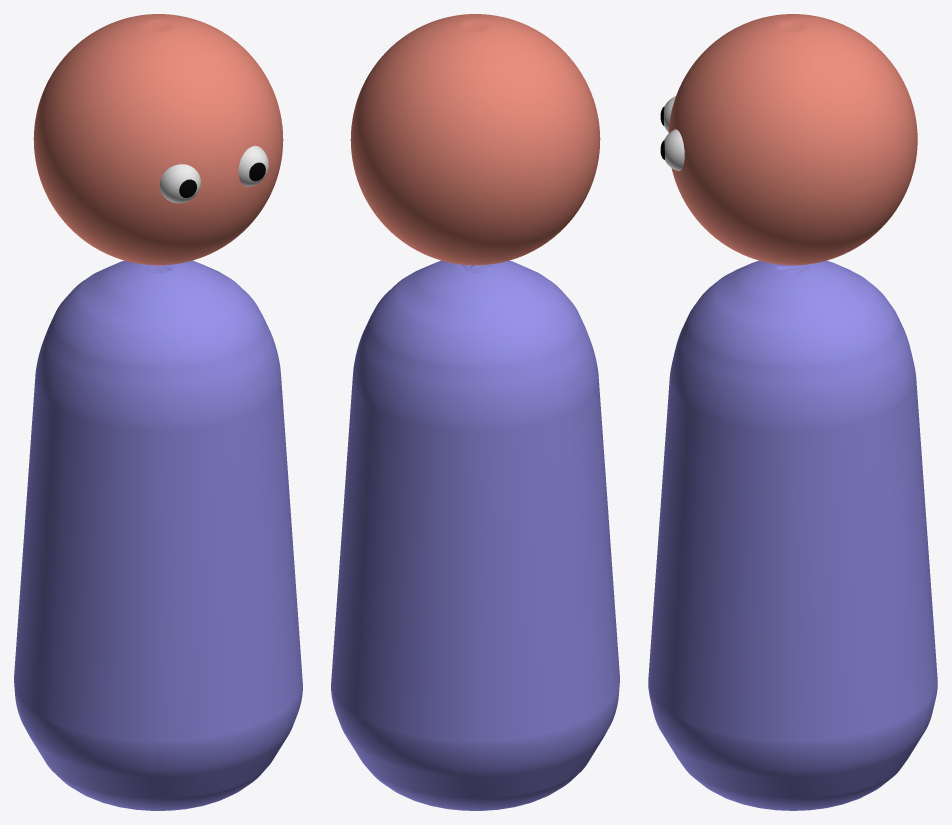
Rendered from NewP.fbx.
3 views of the same model, side by side, from view 1: azimuth 30°, elevation 25°; view 2: azimuth 150°, elevation 25°; view 3: azimuth 270°, elevation 25° (orthographic).
Parts seen in each view (by area): view 1: Cylinder, Sphere, Sphere.001, Sphere.002; view 2: Cylinder, Sphere; view 3: Cylinder, Sphere, Sphere.001.
Boxes of the visible parts, x1,y1,x2,y2 form: Cylinder: (14, 260, 302, 810); Sphere: (33, 14, 283, 265); Sphere.001: (159, 145, 268, 203); Sphere.002: (179, 162, 265, 197); Cylinder: (331, 260, 619, 810); Sphere: (350, 14, 600, 265); Cylinder: (648, 260, 937, 810); Sphere: (668, 14, 917, 265); Sphere.001: (663, 96, 684, 170).
Size of the model in its own units: 148 by 431 by 148.
